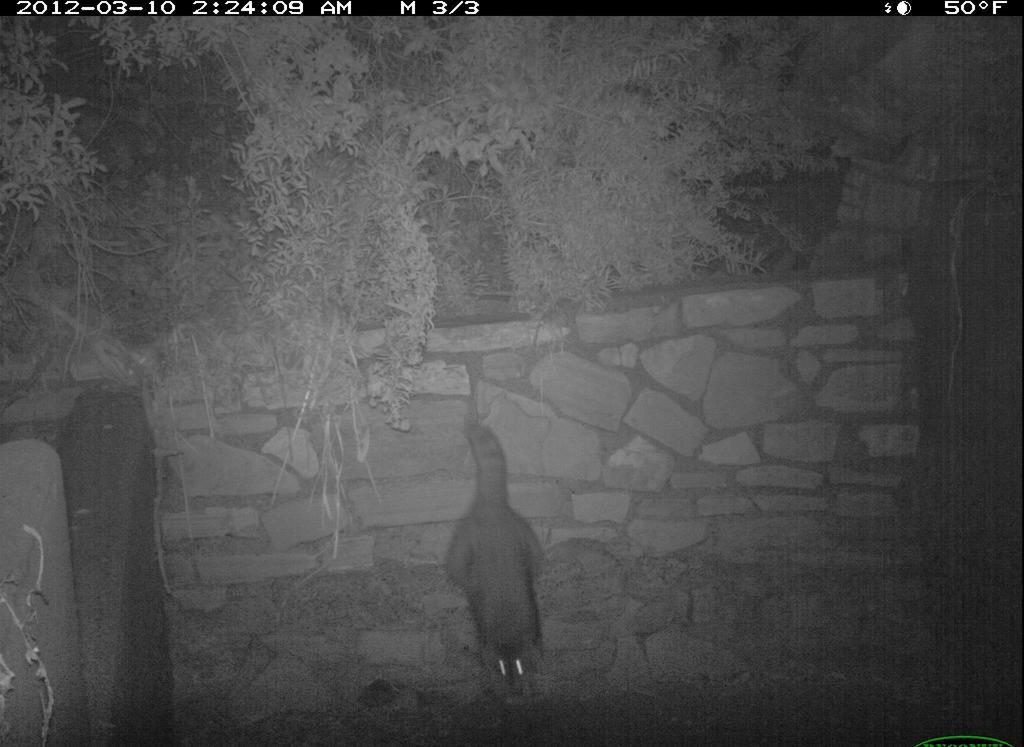raccoon: (442, 402, 560, 688)
